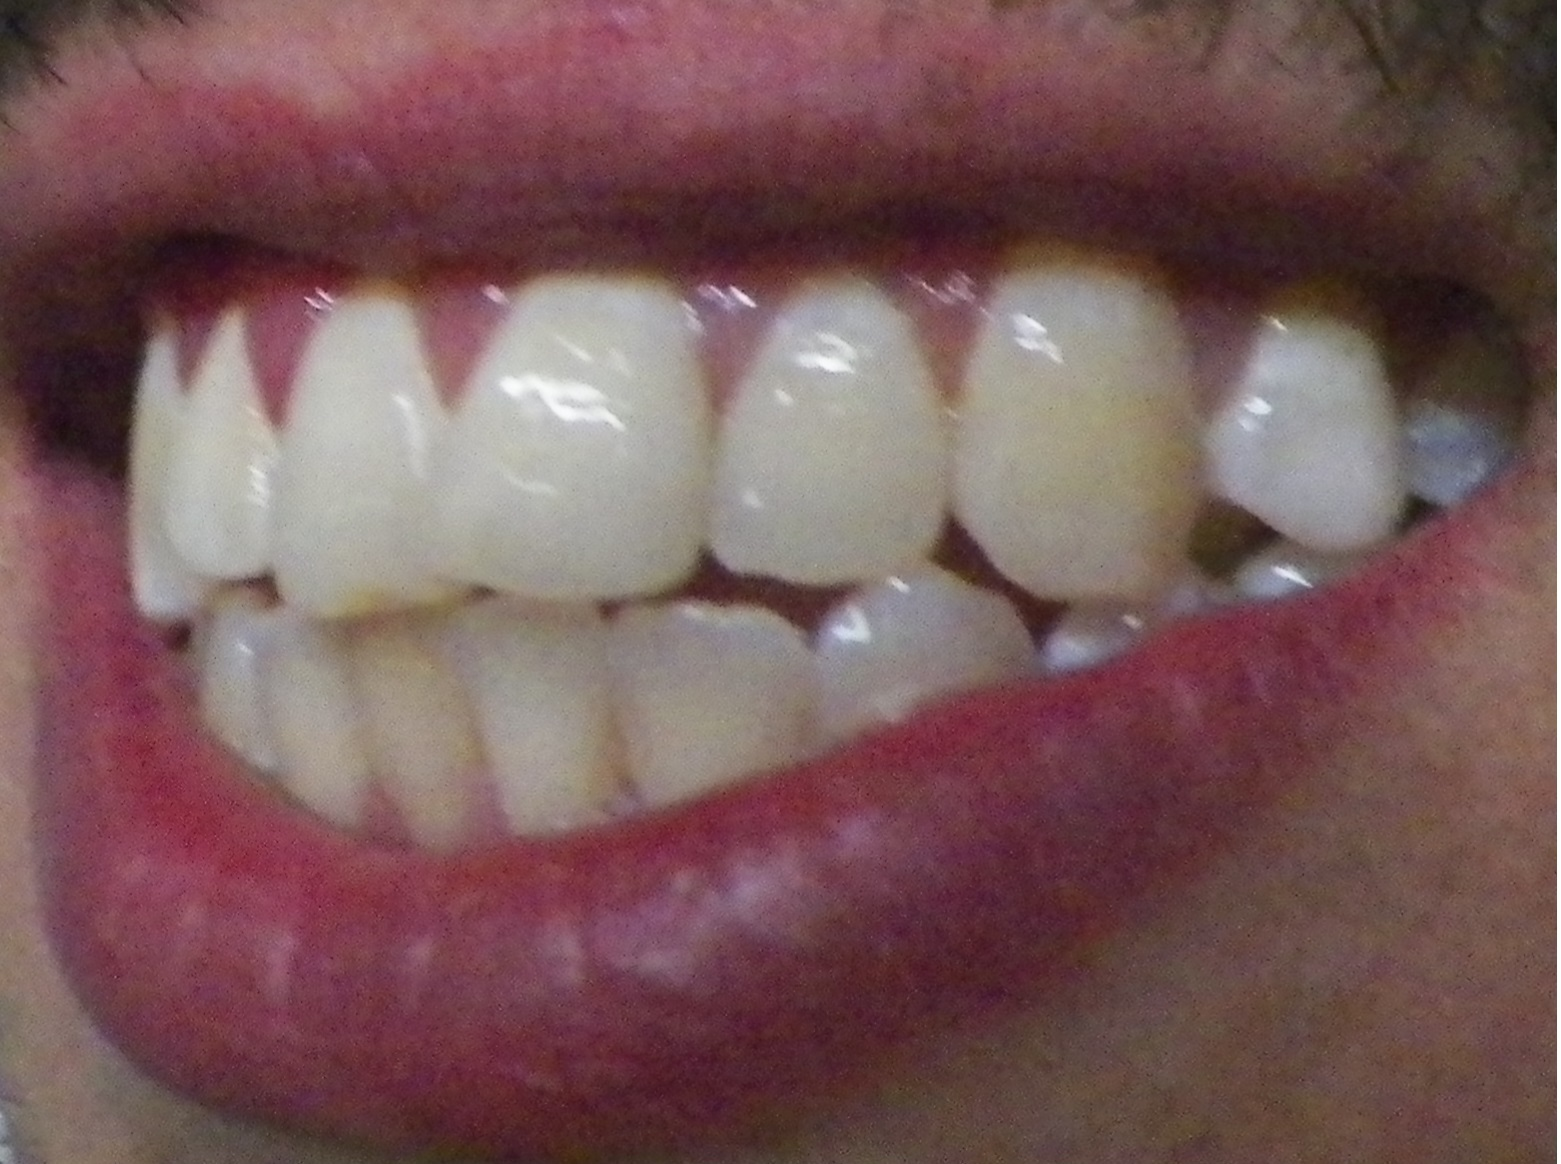boca: (126, 248, 1518, 849)
